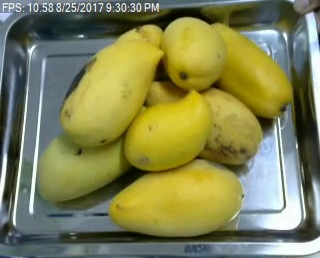Mango: (61, 39, 161, 146), (108, 159, 244, 236), (143, 83, 262, 165), (203, 21, 292, 119), (123, 90, 212, 169), (35, 129, 132, 201), (160, 15, 228, 90)
